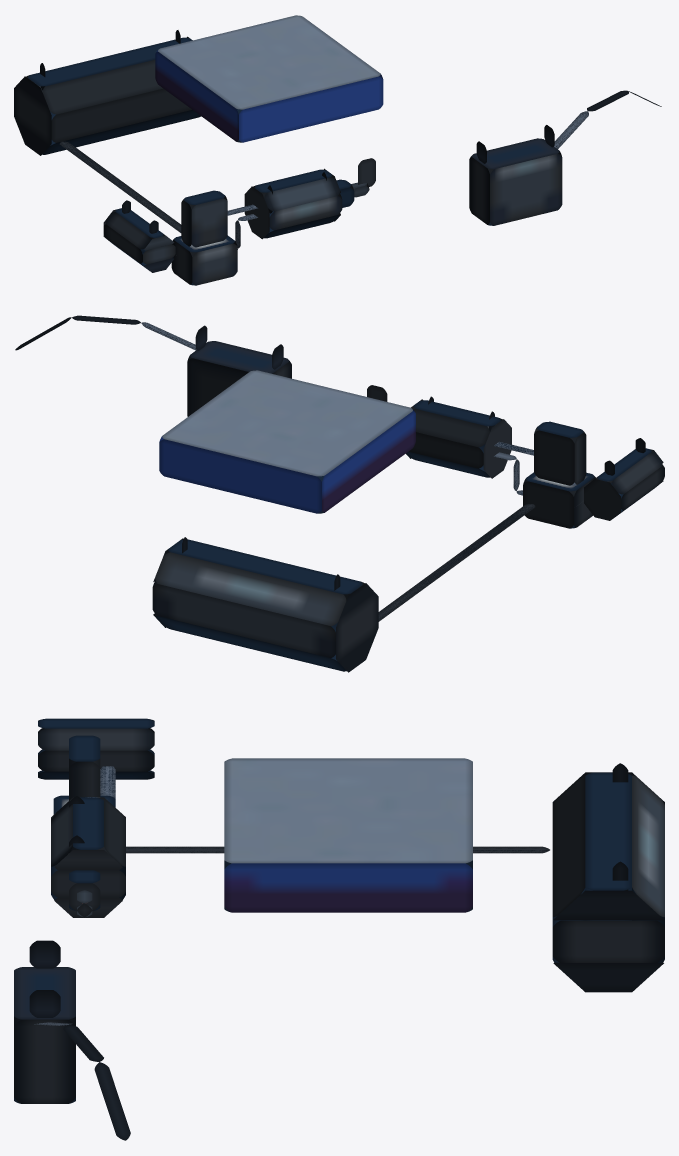
The model's file is m1_reservoir_box.obj.
The picture shows the model from 3 angles, top to bottom: view 1: azimuth 30°, elevation 25°; view 2: azimuth 150°, elevation 25°; view 3: azimuth 270°, elevation 25°; orthographic projection. The views are drawn at different scales.
Parts seen in each view (by area): view 1: cube; view 2: cube; view 3: cube.
Part boxes in pixels (x1,y1,x2,y2): cube: (14, 15, 661, 285); cube: (15, 315, 664, 672); cube: (14, 718, 664, 1140).
Size of the model in its own units: 3.8 by 0.7629 by 2.62.
